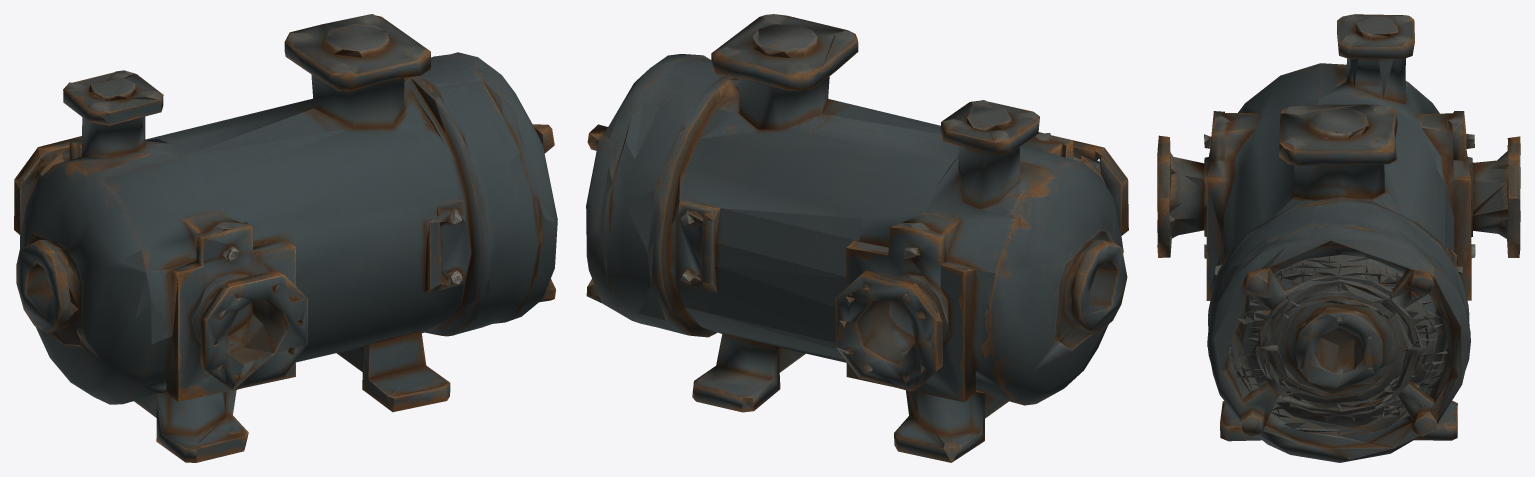
Rendered from Moteur.fbx.
3 renders of one model, left to right at view 1: azimuth 30°, elevation 25°; view 2: azimuth 150°, elevation 25°; view 3: azimuth 270°, elevation 25°, orthographic. The views are drawn at different scales.
Visible parts, largest first — view 1: Mesh_0; view 2: Mesh_0; view 3: Mesh_0.
Boxes of the visible parts, left/top/right/bottom form: Mesh_0: left=14, top=14, right=557, bottom=462; Mesh_0: left=586, top=14, right=1128, bottom=462; Mesh_0: left=1157, top=14, right=1520, bottom=462.
Size of the model in its own units: 190 by 125 by 135.
1 material, 1 textured.
